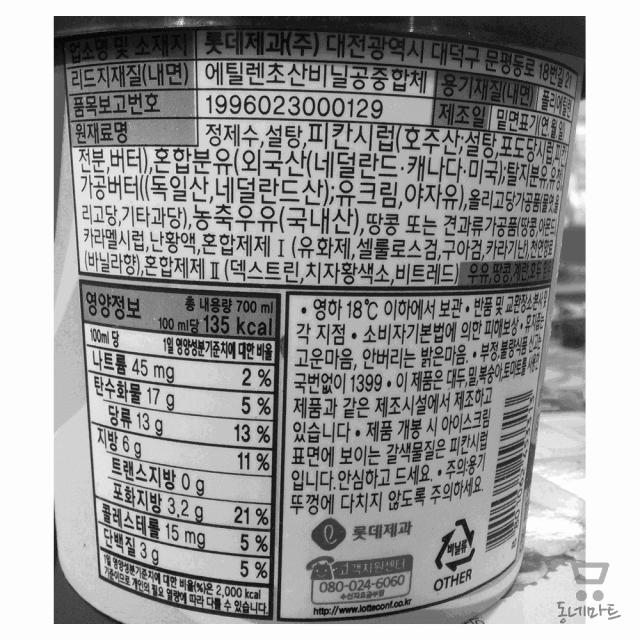Nutrition Label: (71, 276, 282, 625)
